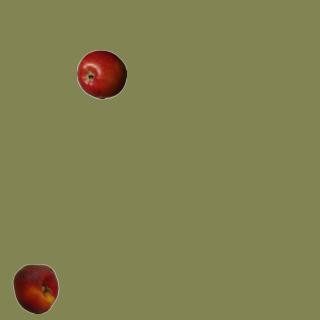Apple Braeburn: (76, 49, 126, 99)
Nectarine Flat: (10, 263, 60, 313)
